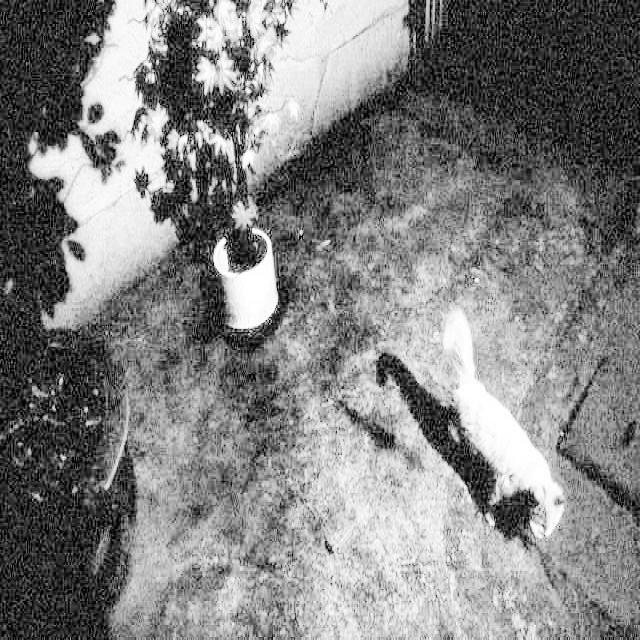Cat: (436, 304, 569, 543)
